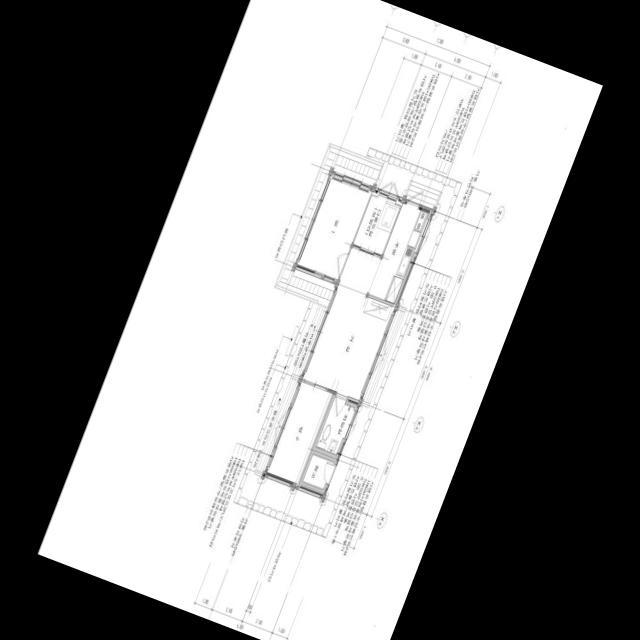background: (37, 0, 603, 640)
space_bedroom: (296, 179, 371, 280), (265, 382, 332, 486)
space_kitchen: (367, 202, 430, 304)
space_living_room: (302, 248, 395, 400)
space_multipurpose_space: (353, 194, 401, 255)
space_other: (302, 454, 336, 490)
space_toilet: (315, 397, 355, 455)
